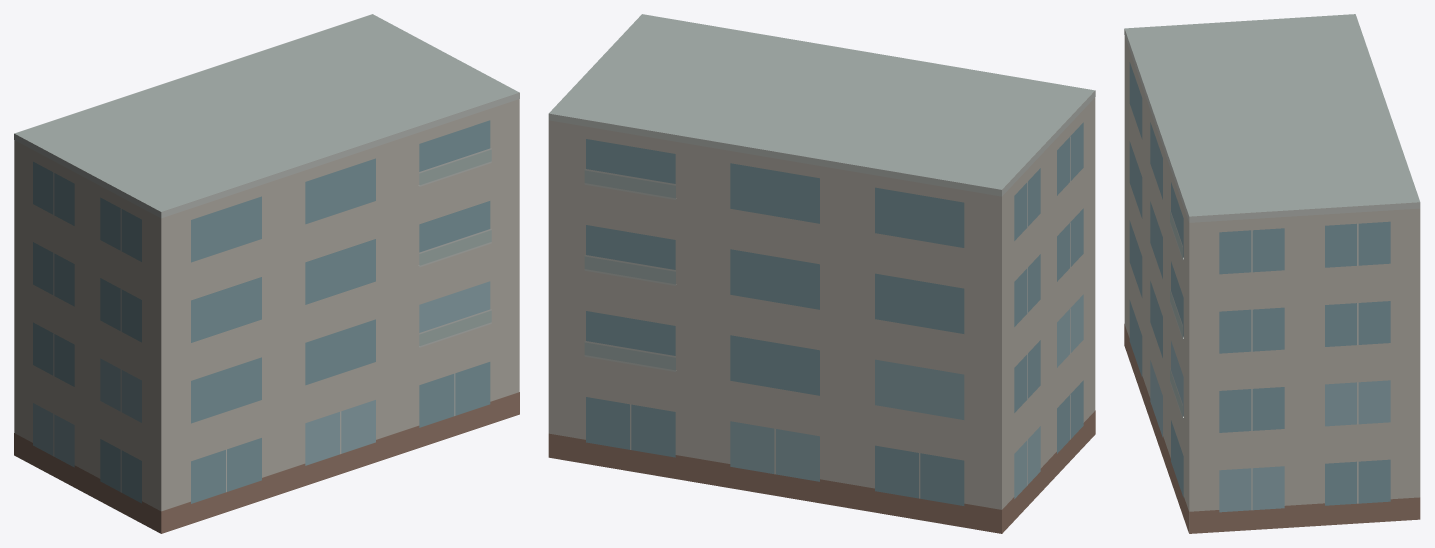
Rendered from survey-upis-32803335.glb.
3 renders of one model, left to right at view 1: azimuth 30°, elevation 25°; view 2: azimuth 150°, elevation 25°; view 3: azimuth 270°, elevation 25°, orthographic. The views are drawn at different scales.
Visible parts, largest first — view 1: survey-upis-32803335.tmp; view 2: survey-upis-32803335.tmp; view 3: survey-upis-32803335.tmp.
Part boxes in pixels (x1=…): survey-upis-32803335.tmp: x1=14, y1=14, x2=519, y2=533; survey-upis-32803335.tmp: x1=548, y1=14, x2=1095, y2=533; survey-upis-32803335.tmp: x1=1124, y1=14, x2=1420, y2=533.
Size of the model in its own units: 16.99 by 12.4 by 10.49.
